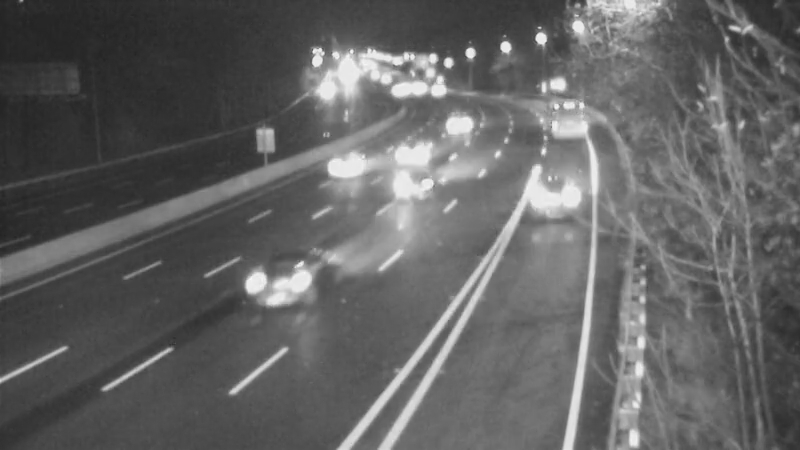vehicle: (363, 116, 443, 196), (306, 122, 386, 202), (373, 149, 453, 229), (509, 153, 589, 233), (241, 247, 321, 327), (391, 65, 441, 115), (369, 65, 419, 115), (408, 65, 458, 115), (537, 85, 587, 135), (434, 97, 484, 147)
